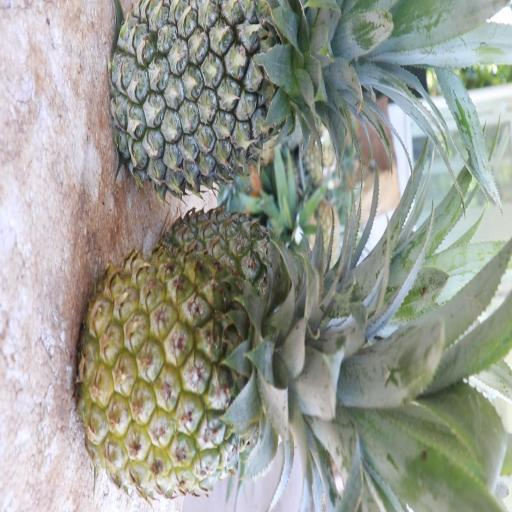------------------------------: (72, 242, 370, 505)
